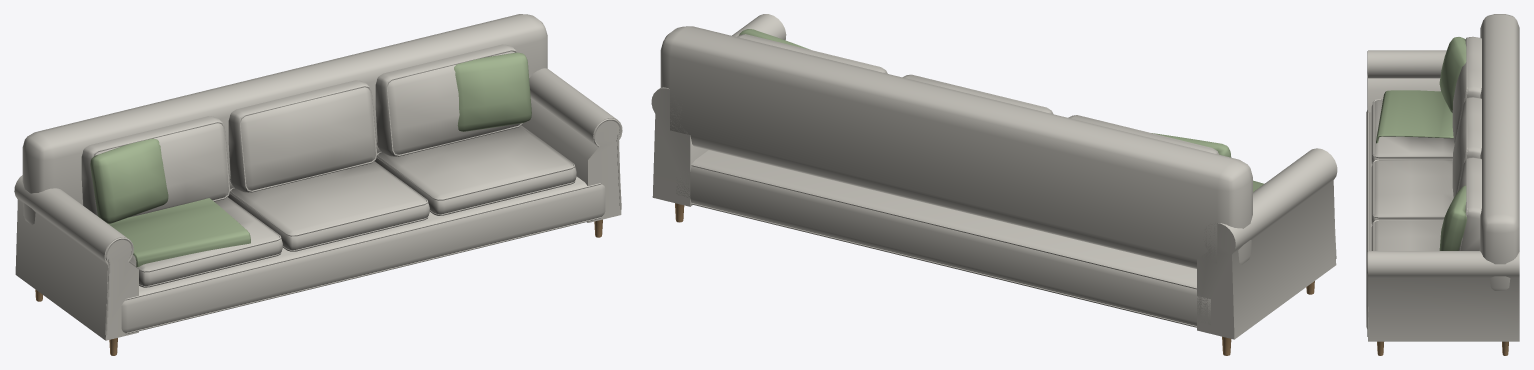
File: sofaThree.glb
The picture shows the model from 3 angles, left to right: view 1: azimuth 30°, elevation 25°; view 2: azimuth 150°, elevation 25°; view 3: azimuth 270°, elevation 25°; orthographic projection. The views are drawn at different scales.
Parts seen in each view (by area): view 1: sofa, seat; view 2: sofa; view 3: sofa, seat.
Boxes of the visible parts, <box> form: sofa: <box>14,14,622,355</box>; seat: <box>108,125,576,287</box>; sofa: <box>651,14,1337,355</box>; sofa: <box>1366,14,1519,355</box>; seat: <box>1371,90,1454,250</box>.
Size of the model in its own units: 2.82 by 0.87 by 0.86.
